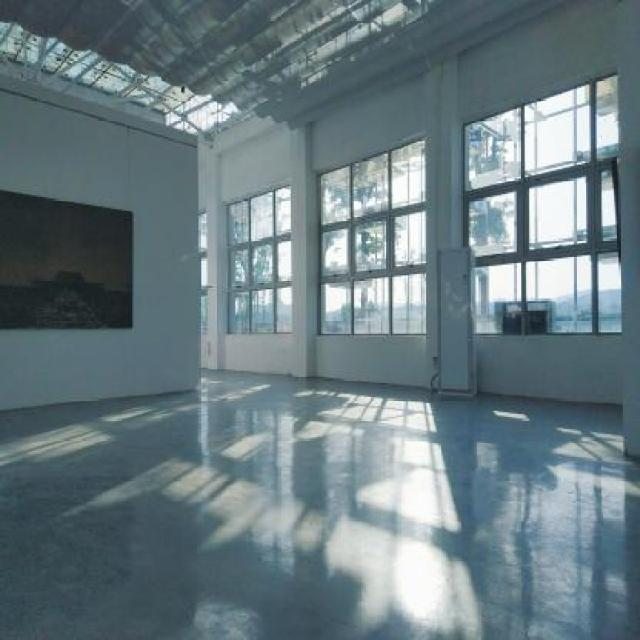floor: (0, 367, 640, 640)
